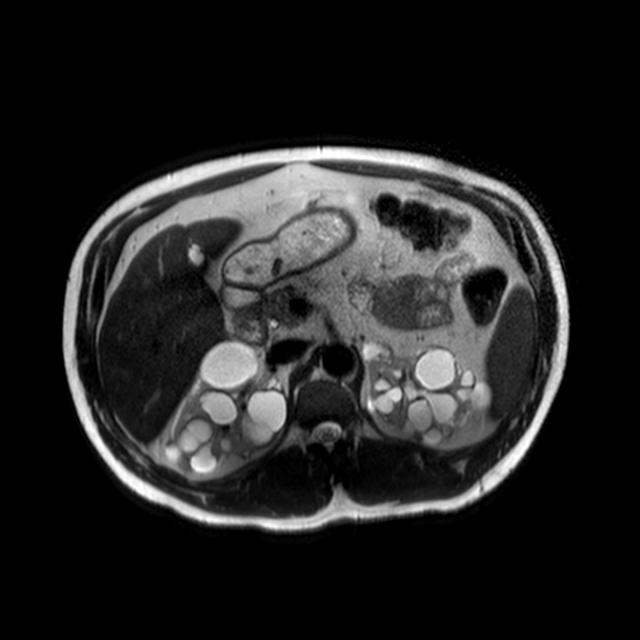sag: (162, 338, 288, 477)
sol: (362, 342, 492, 451)
